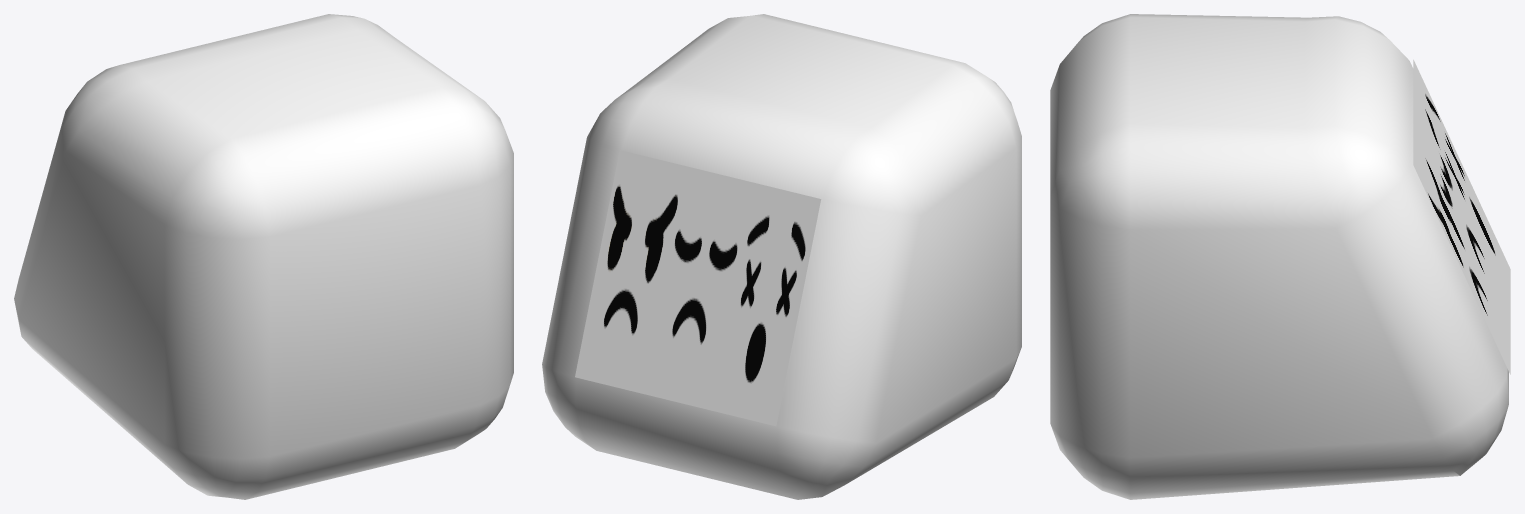
Rendered from Enemy.fbx.
The picture shows the model from 3 angles, left to right: view 1: azimuth 30°, elevation 25°; view 2: azimuth 150°, elevation 25°; view 3: azimuth 270°, elevation 25°; orthographic projection. The views are drawn at different scales.
Visible parts, largest first — view 1: target_cube; view 2: target_cube, emoji; view 3: target_cube, emoji.
Part boxes in pixels (left/top/right/bottom): target_cube: left=14, top=14, right=513, bottom=499; target_cube: left=542, top=14, right=1021, bottom=499; emoji: left=575, top=150, right=821, bottom=426; target_cube: left=1050, top=14, right=1508, bottom=499; emoji: left=1413, top=59, right=1510, bottom=374.
Bounding box in the file's own units: 100 × 100 × 112.
